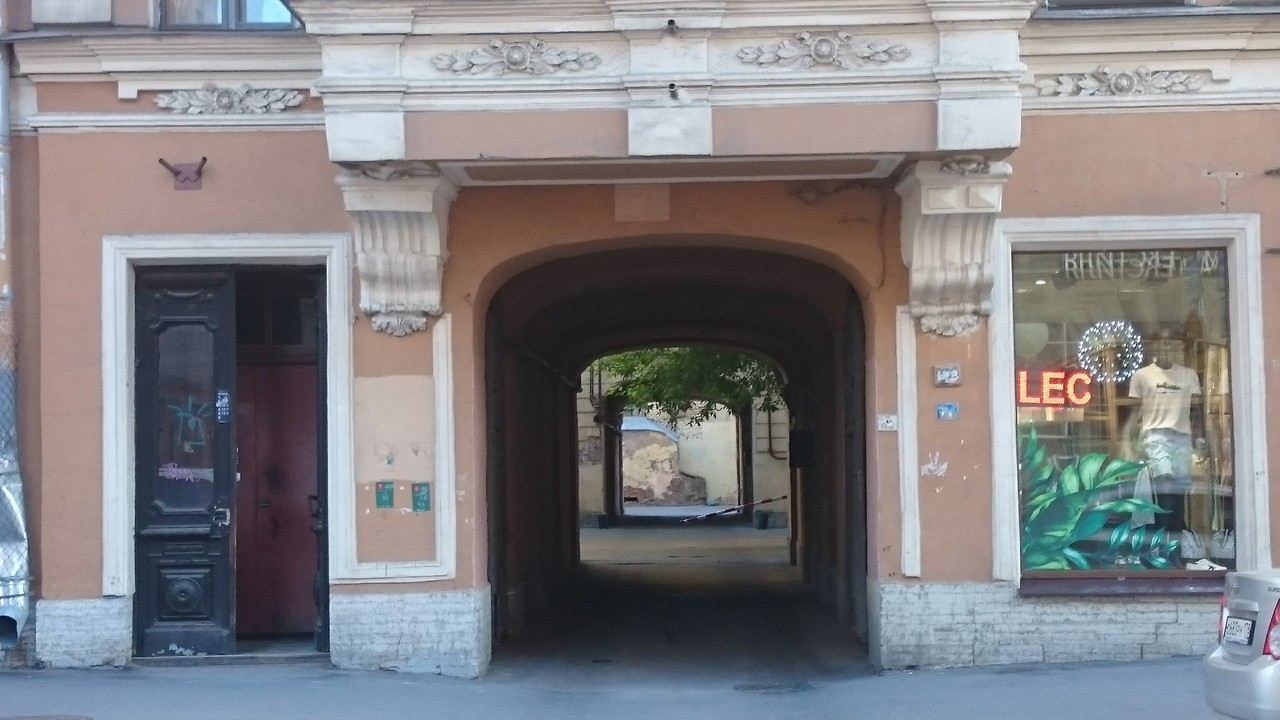arch: (484, 237, 882, 673)
door: (137, 265, 327, 662)
window: (1011, 247, 1237, 581)
